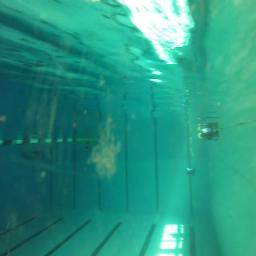Full: (201, 129, 219, 141), (186, 167, 196, 176)
